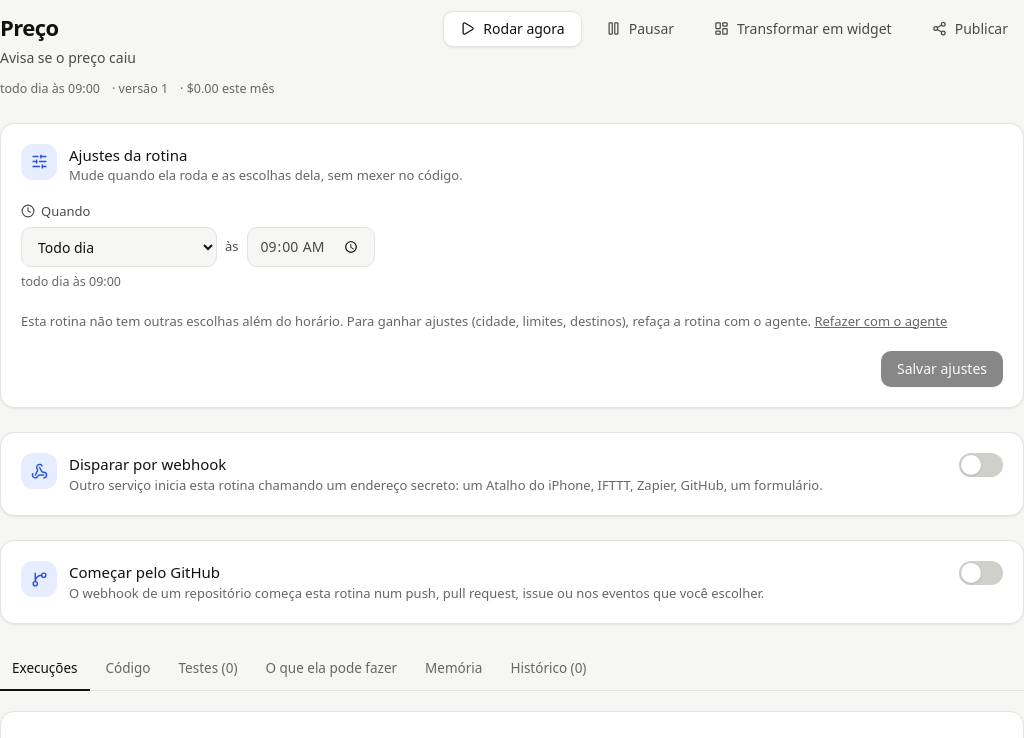
it: Routine memory › shows what the routine kept and clears it
What coordinates should you click on to do the following:
click the tab "Memória"
I would click on:
 (454, 669)
Its box is left=413, top=648, right=494, bottom=691.
(page scrolled)
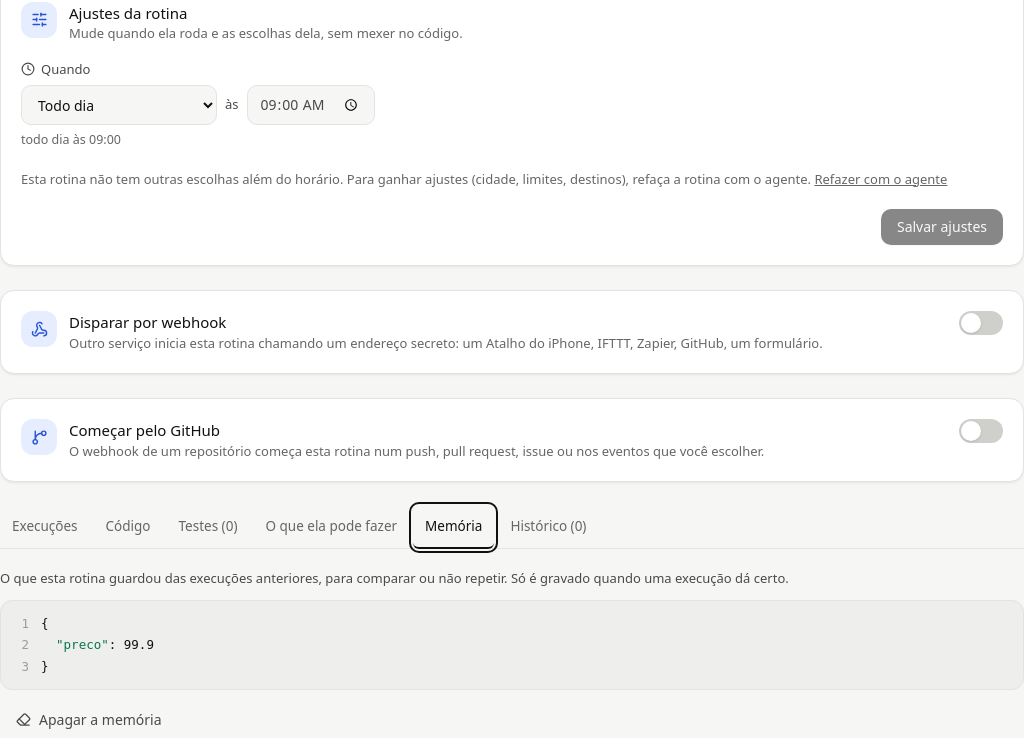
Check: the text "\"preco\": 99.9" is shown, box left=56, top=637, right=154, bottom=652
What coordinates should you click on to do the following:
click the button "Apagar a memória"
I would click on:
 (89, 720)
Its box is left=0, top=702, right=178, bottom=737.
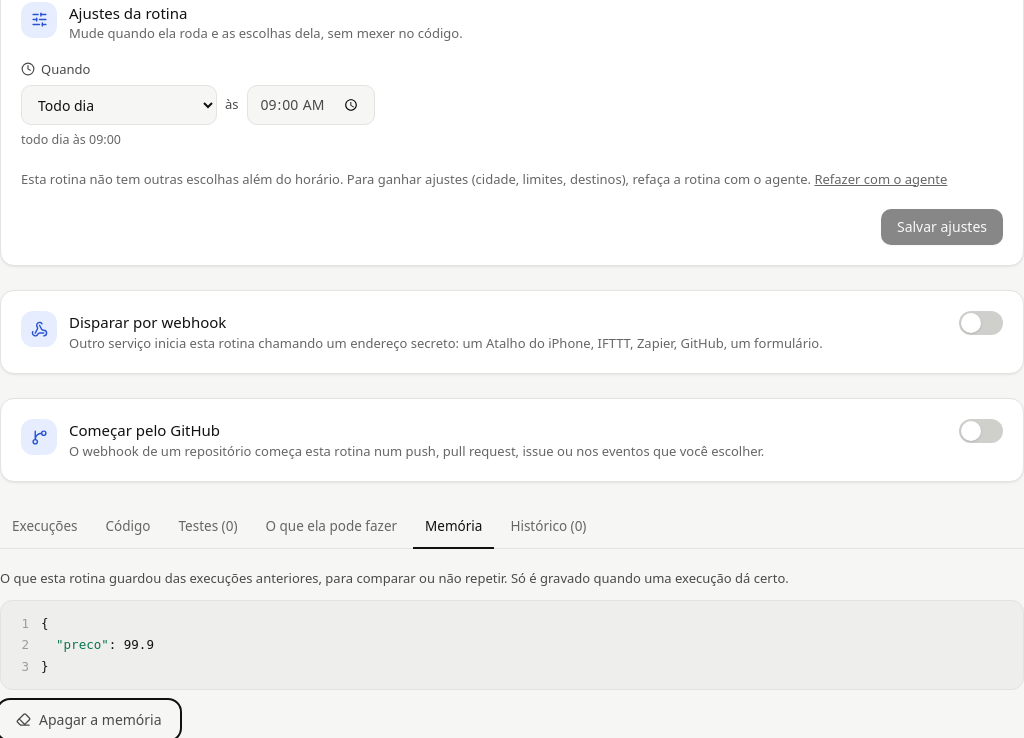
What coordinates should you click on to do the following:
click the tab "O que ela pode fazer"
I would click on:
 (331, 527)
Its box is left=254, top=506, right=409, bottom=549.
(page scrolled)
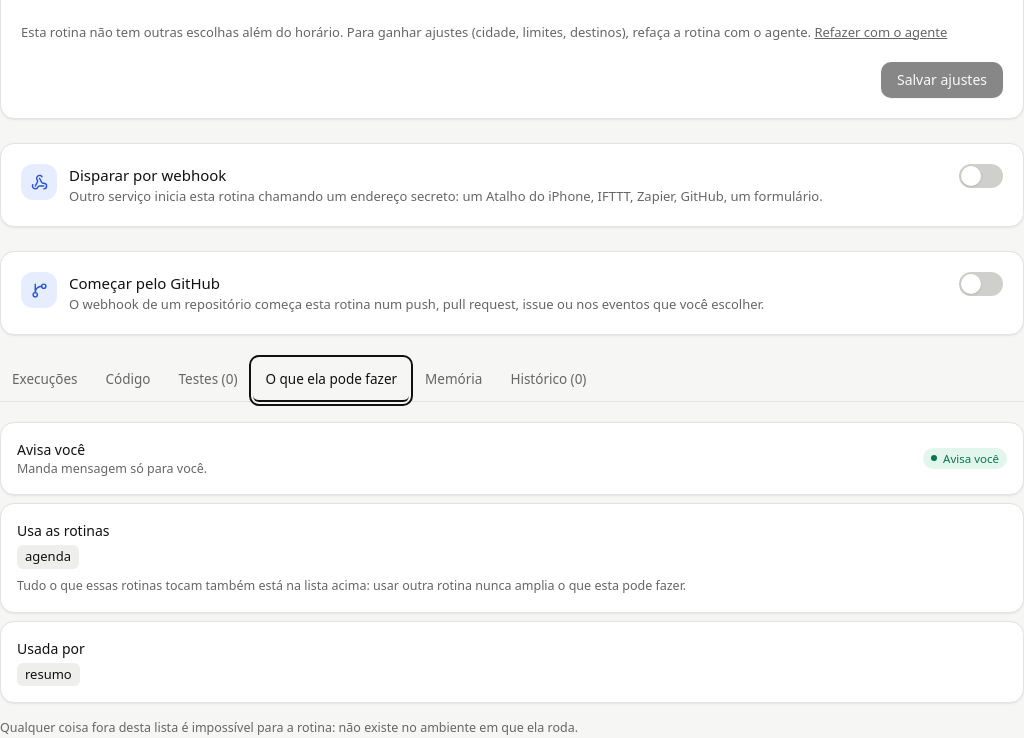
Check: the link "agenda" is shown, box left=17, top=545, right=79, bottom=569
Check: the link "resumo" is shown, box left=17, top=662, right=80, bottom=686
